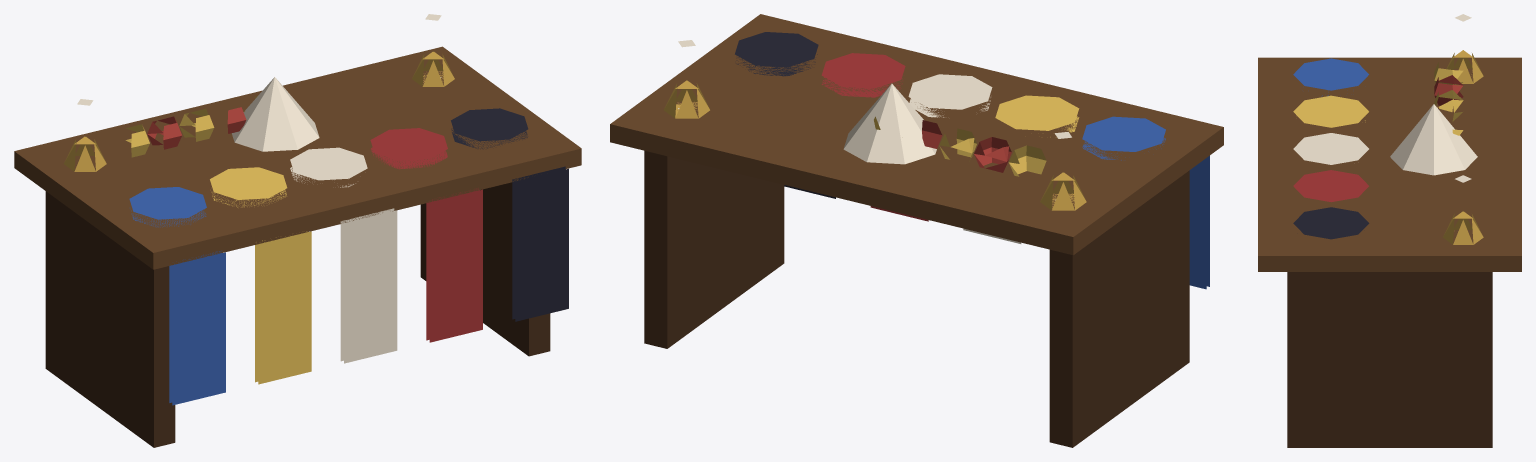
File: prop_gutsang_lod1.glb
The picture shows the model from 3 angles, left to right: view 1: azimuth 30°, elevation 25°; view 2: azimuth 150°, elevation 25°; view 3: azimuth 270°, elevation 25°; orthographic projection. The views are drawn at different scales.
Parts seen in each view (by area): view 1: prop_gutsang_lod1; view 2: prop_gutsang_lod1; view 3: prop_gutsang_lod1.
Part boxes in pixels (<box>): prop_gutsang_lod1: <box>14,14,581,447</box>; prop_gutsang_lod1: <box>610,14,1223,447</box>; prop_gutsang_lod1: <box>1258,14,1521,447</box>.
Size of the model in its own units: 1.6 by 0.97 by 0.92.
